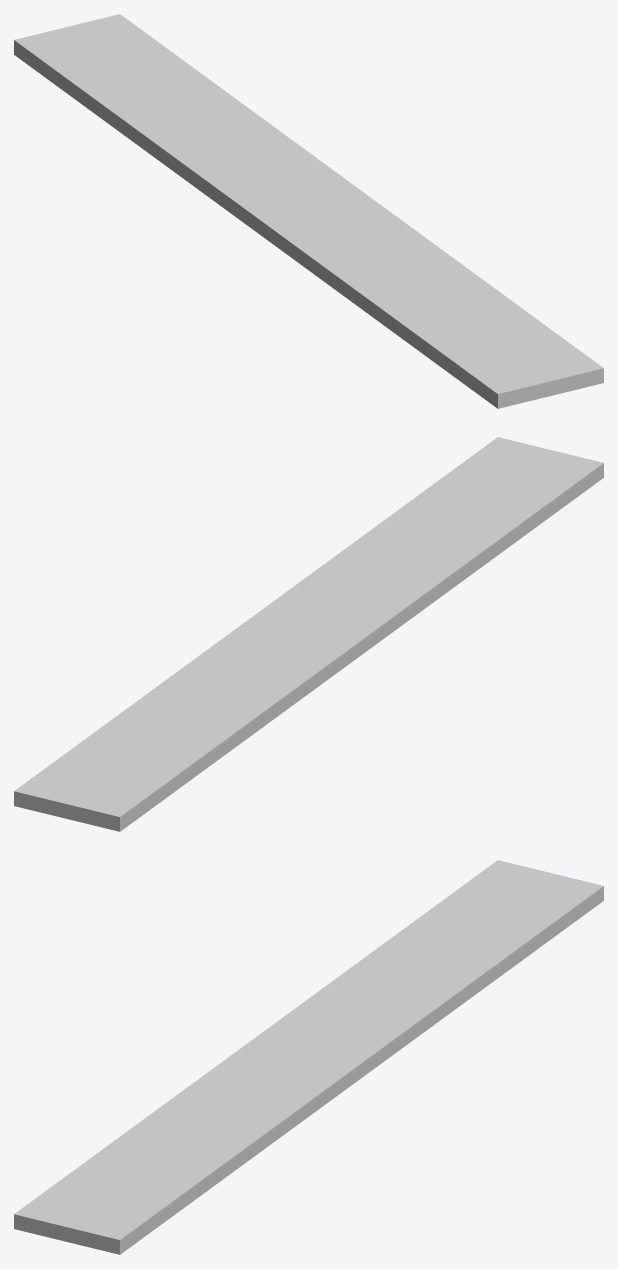
File: Putih Putih jalan'.fbx
3 renders of one model, top to bottom at view 1: azimuth 30°, elevation 25°; view 2: azimuth 150°, elevation 25°; view 3: azimuth 330°, elevation 25°, orthographic.
Parts seen in each view (by area): view 1: Putih Putih jalan'; view 2: Putih Putih jalan'; view 3: Putih Putih jalan'.
Boxes of the visible parts, x1,y1,x2,y2 form: Putih Putih jalan': (14,14,603,408); Putih Putih jalan': (14,437,603,831); Putih Putih jalan': (14,860,603,1254).
Size of the model in its own units: 0.2 by 0.0266 by 1.58.
